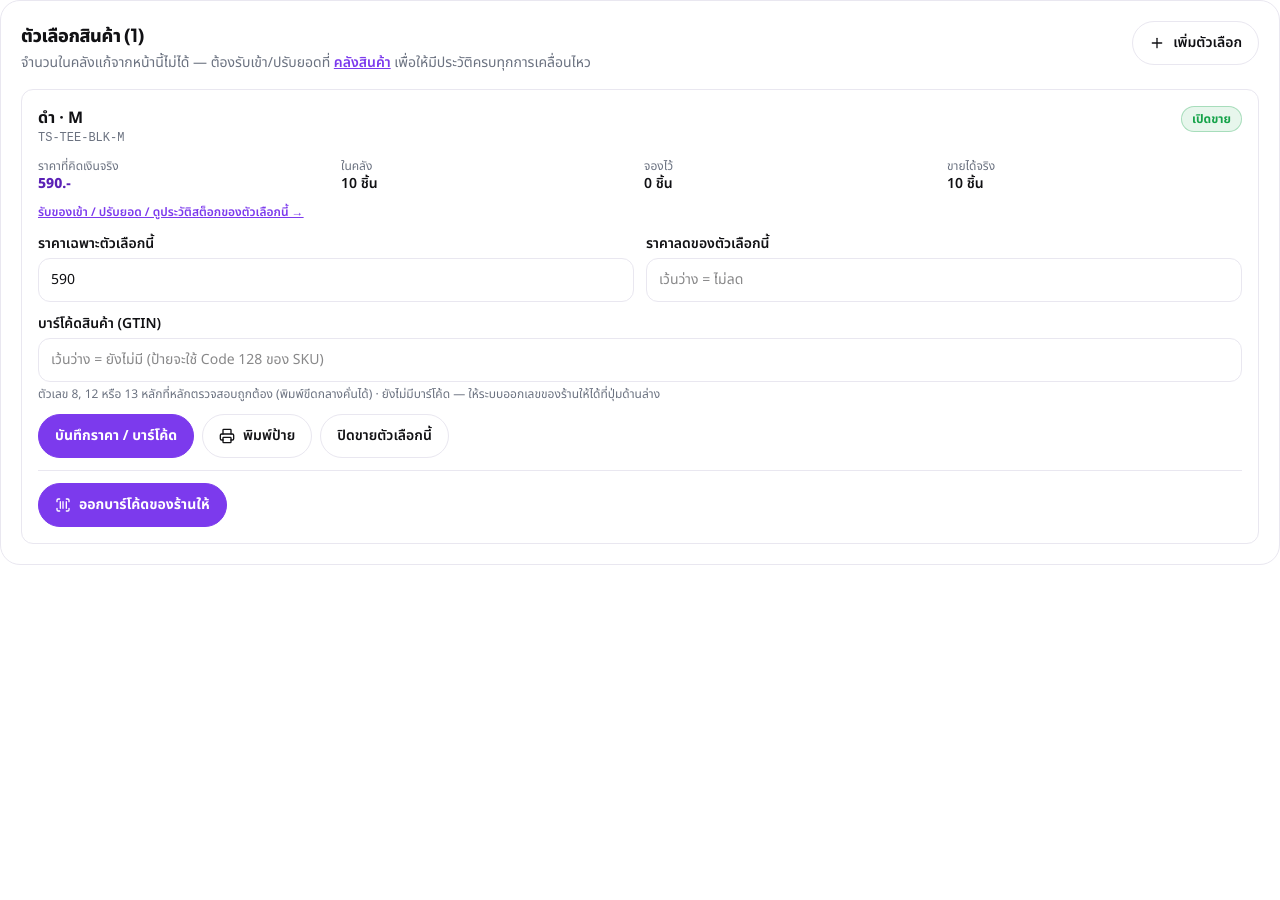
Test: VariantManager — ข้อความจาก server (STEP 37) › บาร์โค้ดซ้ำ ต้องบอกว่าซ้ำ ไม่ใช่ "บันทึกไม่สำเร็จ" ลอย ๆ
Click the button "บันทึกราคา / บาร์โค้ด": click(116, 436) [38,414,194,458]
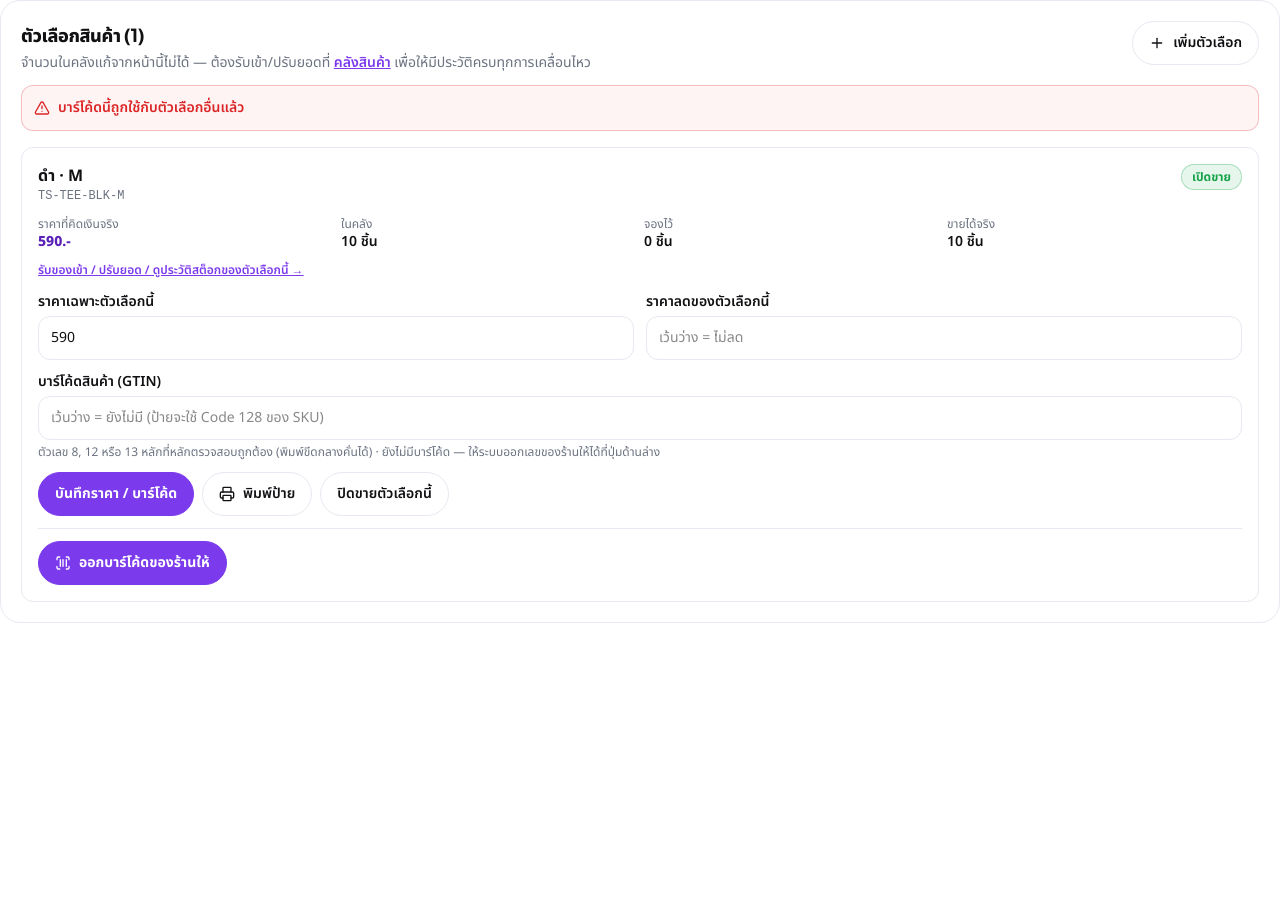
Check: the message reads "บาร์โค้ดนี้ถูกใช้กับตัวเลือกอื่นแล้ว", box [58,97,244,118]
